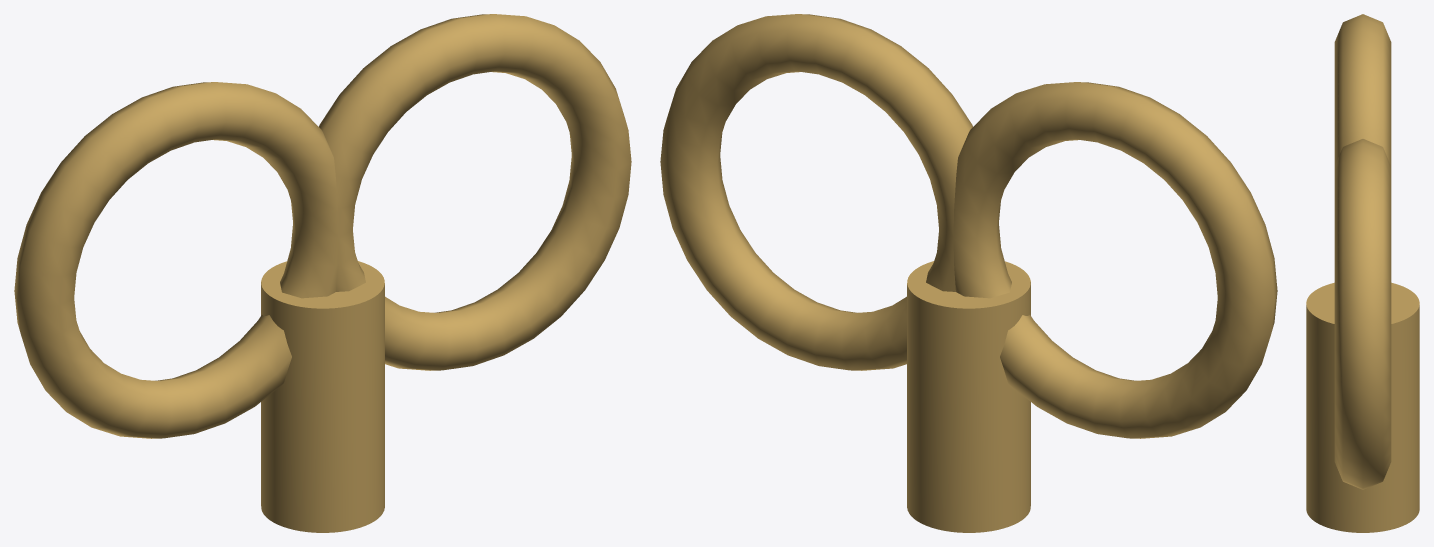
File: clockmaker-and-watch-repair-clock-winding-key-86b0a3a3__30640.glb
The picture shows the model from 3 angles, left to right: view 1: azimuth 30°, elevation 25°; view 2: azimuth 150°, elevation 25°; view 3: azimuth 270°, elevation 25°; orthographic projection. The views are drawn at different scales.
Parts seen in each view (by area): view 1: clock-winding-key; view 2: clock-winding-key; view 3: clock-winding-key.
Part boxes in pixels (left/top/right/bottom): clock-winding-key: left=14, top=14, right=631, bottom=532; clock-winding-key: left=660, top=14, right=1277, bottom=532; clock-winding-key: left=1306, top=14, right=1419, bottom=532.
Size of the model in its own units: 0.114 by 0.081 by 0.02.
